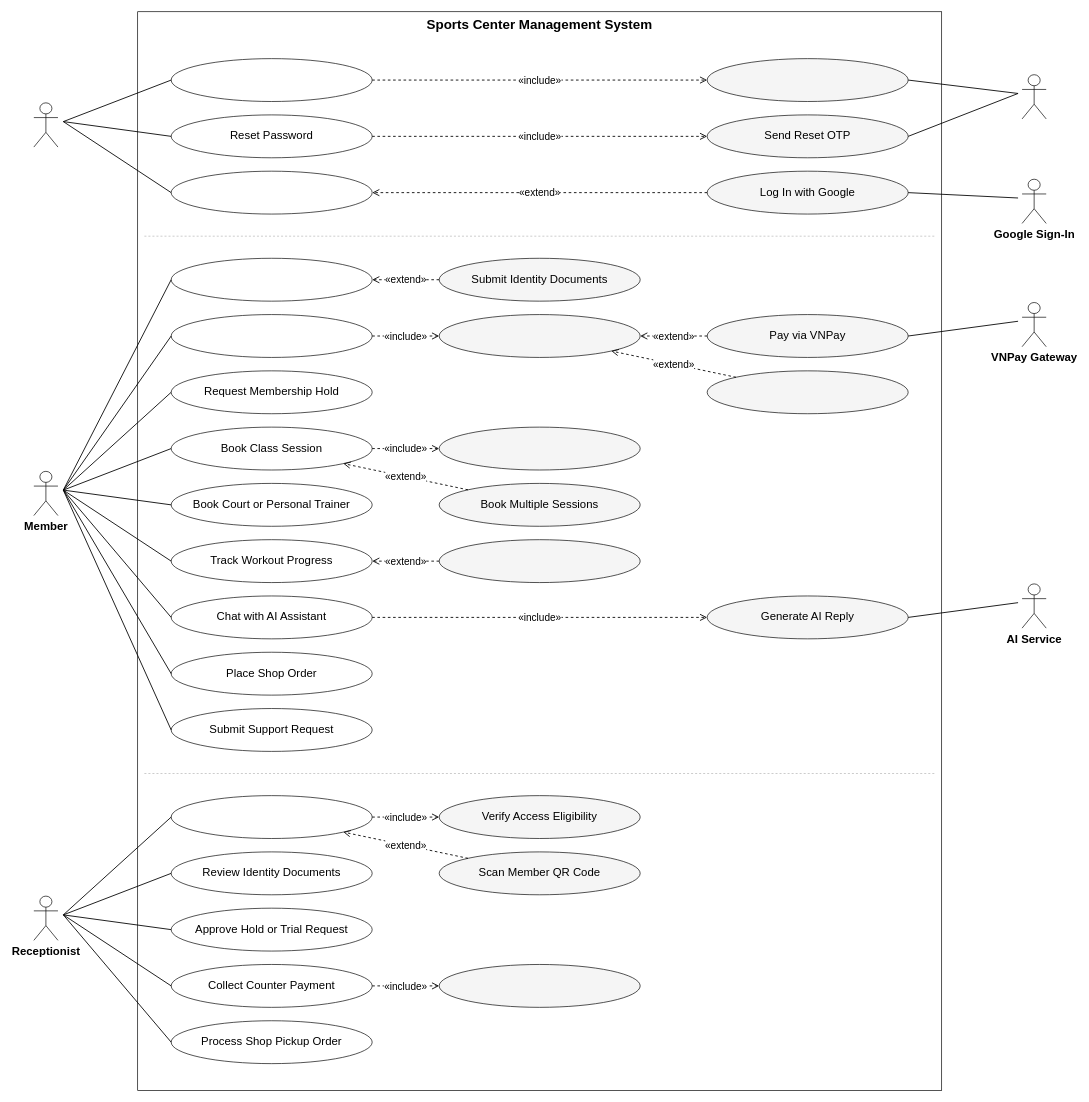
Some shapes in this 1089 by 1102 pixel diagram are drawn without their labels. Each missing label, with the centre of its shape:
"Check In Member" belongs at (271,817).
"Check Membership Validity" belongs at (539,448).
"Email Service" belongs at (1033,96).
"Guest" belongs at (45,124).
"Issue Invoice" belongs at (539,985).
"Log In" belongs at (271,192).
"Pay with Member Wallet" belongs at (807,392).
"Process Payment" belongs at (539,335).
"Purchase Membership Package" belongs at (271,335).
"Register Account" belongs at (271,80).
"Submit Coach Review" belongs at (539,561).
"Update Personal Profile" belongs at (271,279).
"Verify Email OTP" belongs at (807,80).
